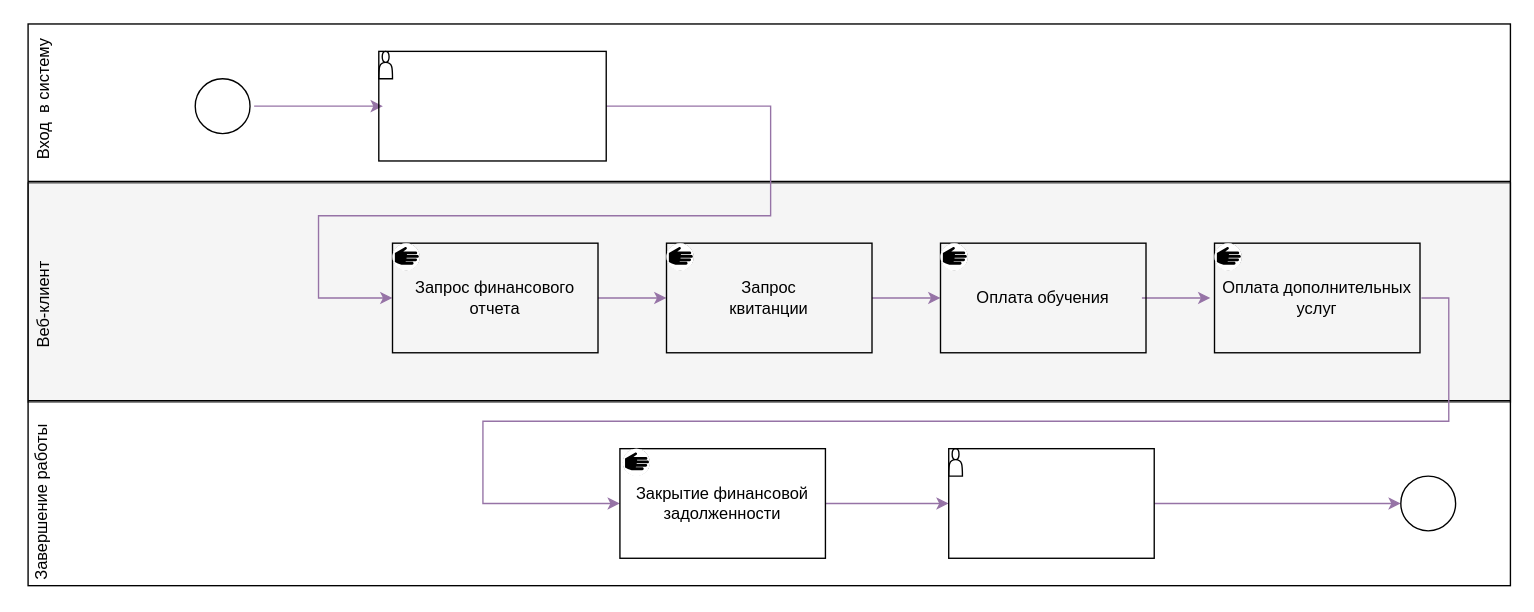
The diagram is 1534 pixels wide and 612 high, and some of its shapes have lost their labels. Here are the shapes that lost their labels. From the top down, the centre of each, then its label:
At [491,105]: "Авторизация пользователя в системе Логин и пароль".
At [1050,502]: "Выход из аккаунта".
